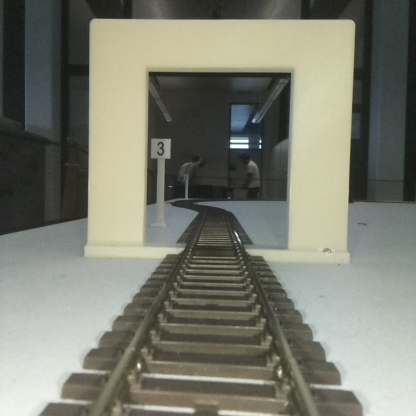white-info-3: (150, 137, 170, 226)
